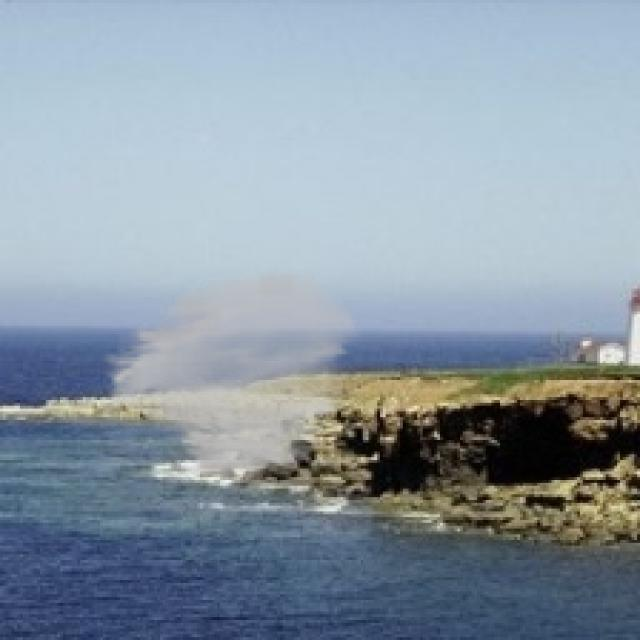Smoke: (91, 268, 363, 483)
